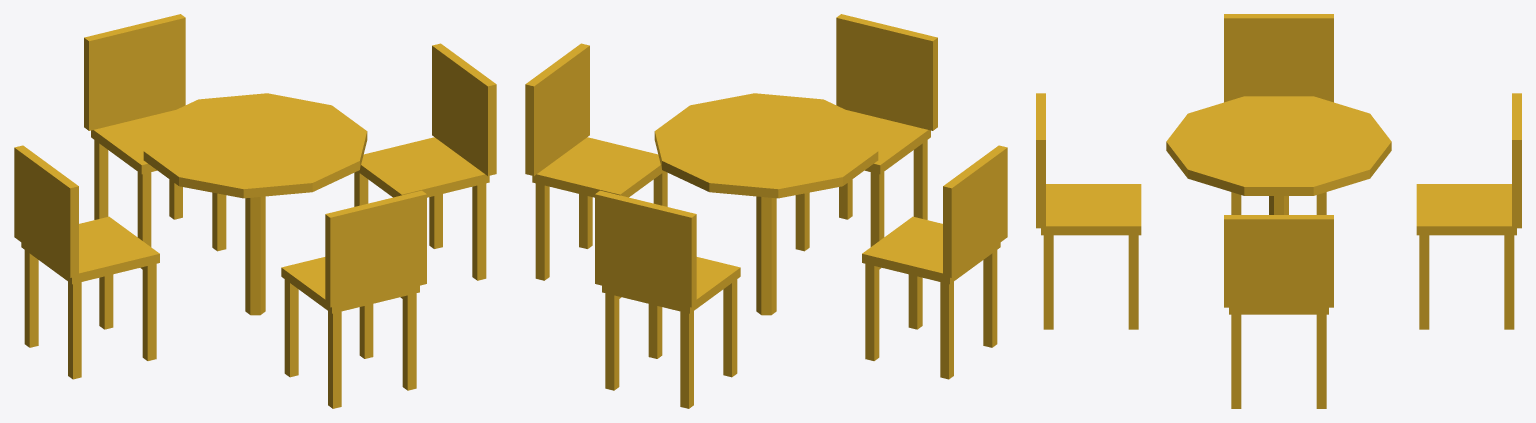
Rendered from mesa_bar_cadeiras.glb.
3 views of the same model, side by side, from view 1: azimuth 30°, elevation 25°; view 2: azimuth 150°, elevation 25°; view 3: azimuth 270°, elevation 25° (orthographic).
Parts seen in each view (by area): view 1: mesa_bar_cadeiras; view 2: mesa_bar_cadeiras; view 3: mesa_bar_cadeiras.
Part boxes in pixels (box(x1,y1,x2,y2)): mesa_bar_cadeiras: box(14, 14, 496, 408); mesa_bar_cadeiras: box(525, 14, 1007, 408); mesa_bar_cadeiras: box(1036, 14, 1521, 408).
Size of the model in its own units: 1.94 by 0.85 by 1.94.
